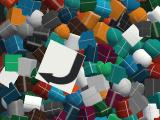Right: (35, 40, 85, 94)
